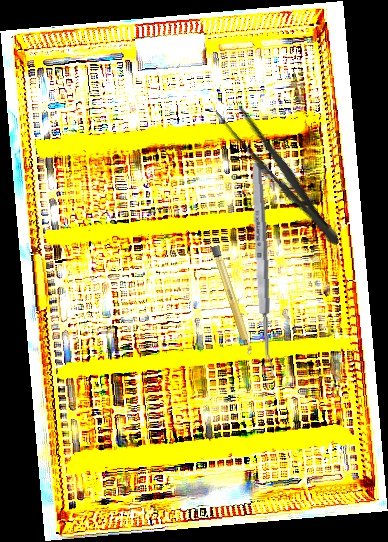Dressing Forceps: (211, 96, 349, 253)
Scalpel Handle: (210, 244, 254, 357)
Surgical Spoon: (249, 162, 275, 377)
